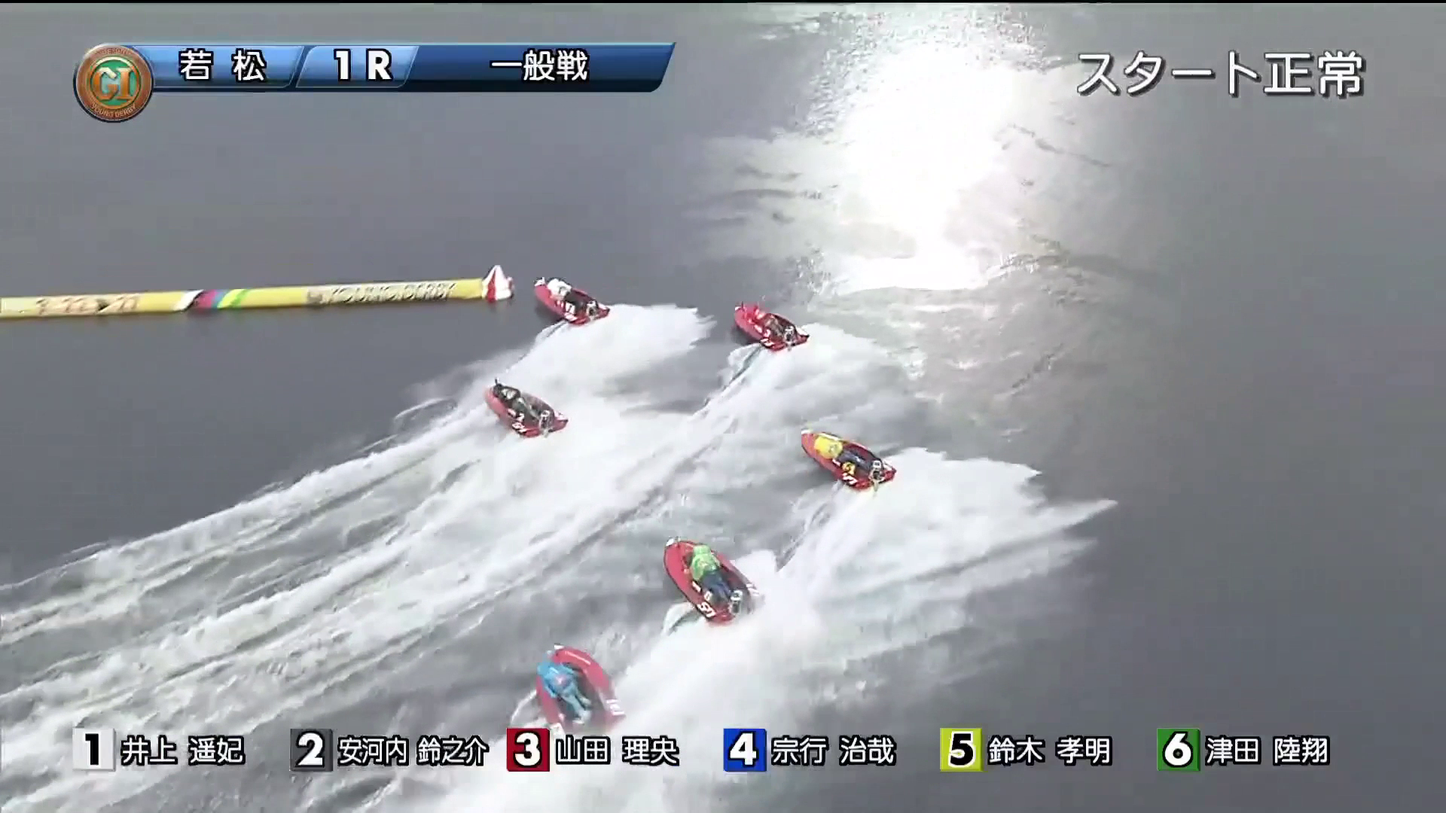１号艇: (530, 280, 600, 333)
２号艇: (467, 376, 595, 436)
３号艇: (720, 303, 818, 349)
４号艇: (683, 536, 817, 601)
５号艇: (518, 666, 641, 722)
６号艇: (798, 429, 898, 486)
